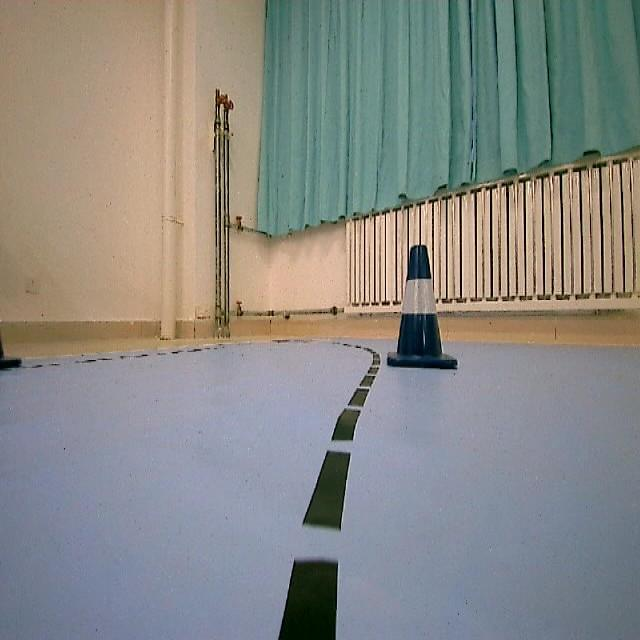obstacle: (390, 246, 450, 371)
